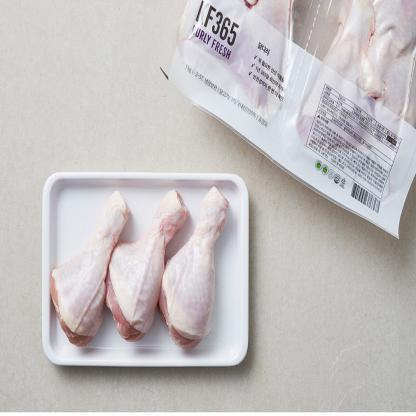chicken: (104, 174, 192, 348), (160, 185, 239, 355), (50, 172, 126, 348)
